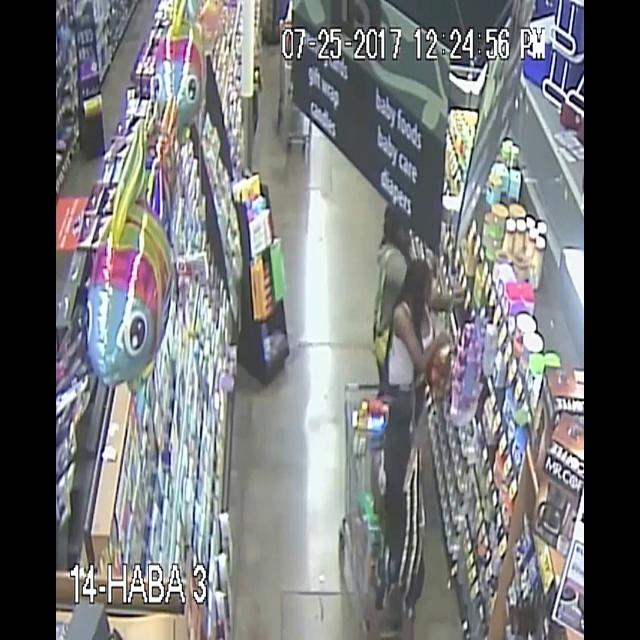Product: (425, 321, 456, 384)
normal: (362, 201, 417, 274)
shoplifting: (357, 195, 461, 412), (372, 402, 441, 640)
